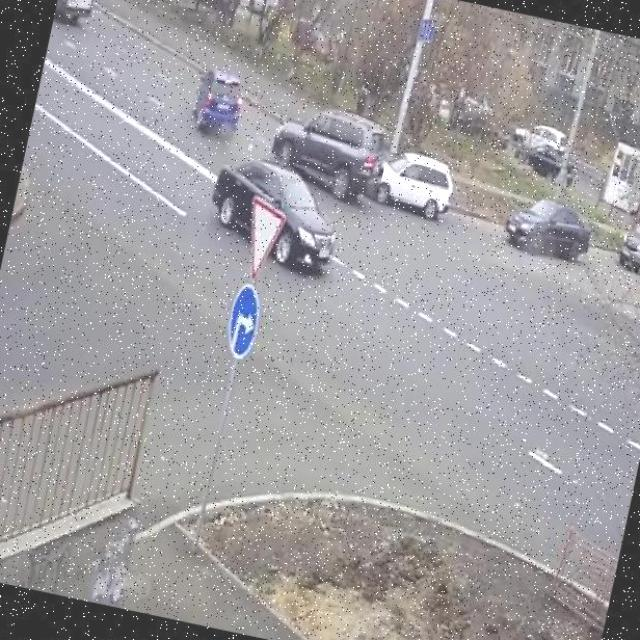accident: (262, 96, 466, 225)
